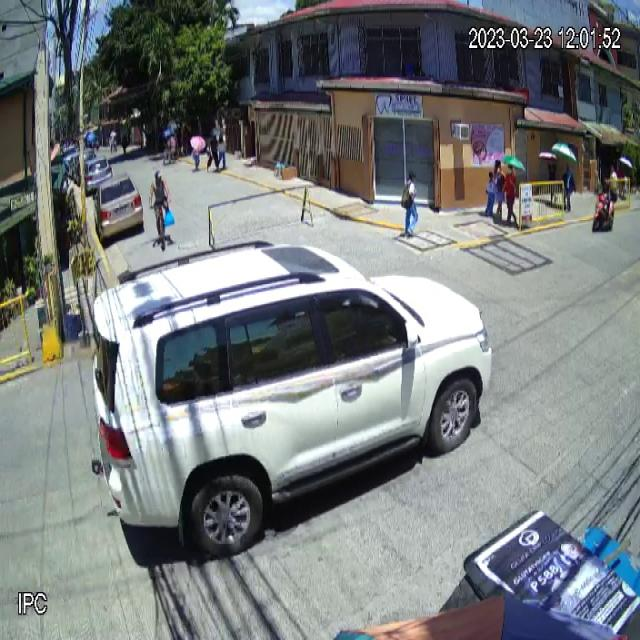Car: (88, 235, 494, 560)
